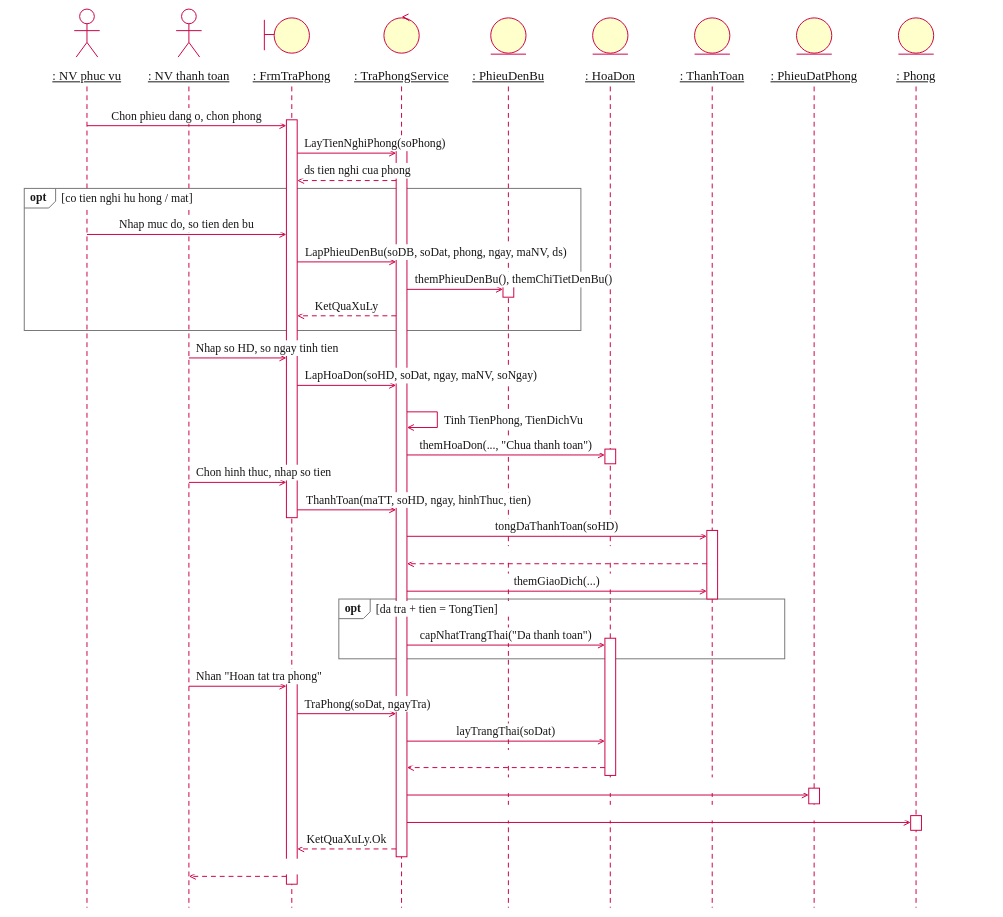
The diagram is 1003 pixels wide and 917 high, and some of its shapes have lost their labels. The centre of each missing label's shape, as x and y in pixels:
"Da thanh toan": pixel 506 757
capNhatTrangThai("Da tra"): pixel 608 785
capNhatTrangThai("Trong"): pixel 658 812
so tien da tra: pixel 557 554
Thong bao hoan tat tra phong: pixel 266 866
